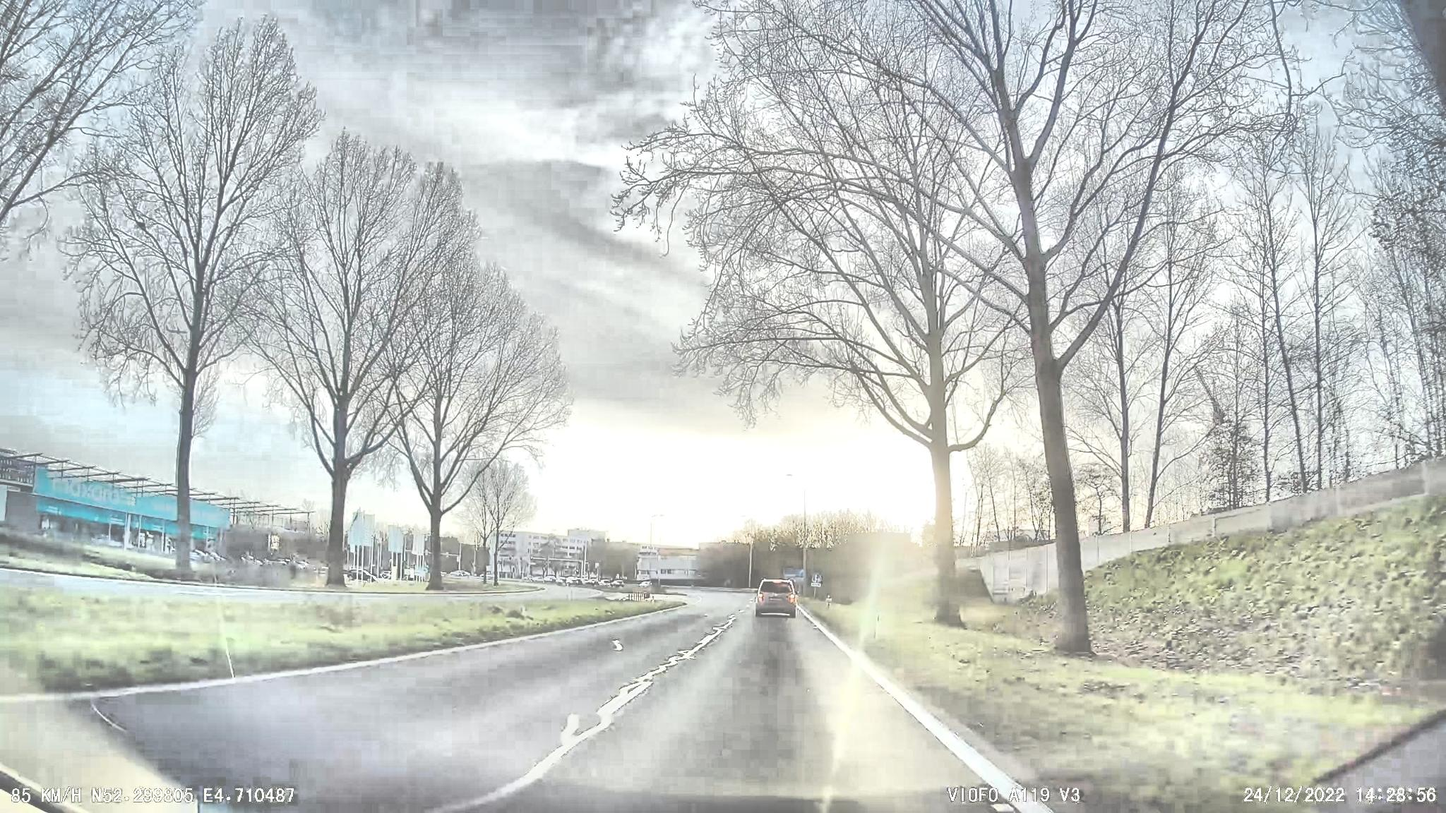Roads: (0, 591, 997, 813)
